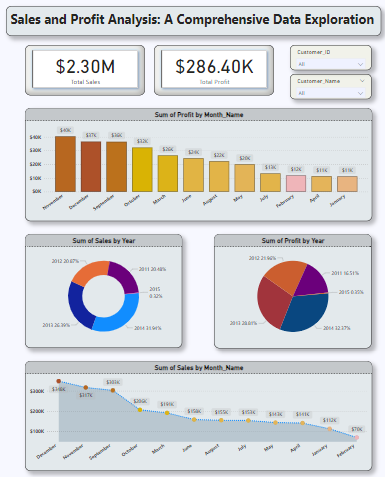

What the dashboard file says about the page in this screenshot:
{"tool":"powerbi","page":{"name":"Page 1","canvas":[1000,1200],"ordinal":0},"visuals":[{"type":"columnChart","fields":{"Category":["Superstore_Cleaned.Month_Name"],"Y":["Sum(Superstore_Cleaned.Profit)"]},"box":[73.3,271.7,868.3,283.3],"z":0},{"type":"areaChart","fields":{"Category":["Superstore_Cleaned.Month_Name"],"Y":["Sum(Superstore_Cleaned.Sales)"]},"box":[72.5,905,867.5,275],"z":1000},{"type":"textbox","box":[25,17.5,937.5,75],"z":2000},{"type":"donutChart","fields":{"Category":["Superstore_Cleaned.Year"],"Y":["Sum(Superstore_Cleaned.Sales)"]},"box":[72.5,587.5,392.5,285],"z":3000},{"type":"pieChart","fields":{"Y":["Sum(Superstore_Cleaned.Profit)"],"Category":["Superstore_Cleaned.Year"]},"box":[544.3,587.1,394.3,285.7],"z":4000},{"type":"cardVisual","fields":{"Data":["Sum(Superstore_Cleaned.Sales)"]},"box":[71.4,115.7,300,125.7],"z":5000},{"type":"cardVisual","fields":{"Data":["Sum(Superstore_Cleaned.Profit)"]},"box":[394.3,115.7,300,125.7],"z":6000},{"type":"slicer","fields":{"Values":["Superstore_Cleaned.Customer_ID"]},"box":[734.3,115.7,204.3,62.9],"z":7000},{"type":"slicer","fields":{"Values":["Superstore_Cleaned.Customer_Name"]},"box":[734.3,188.6,204.3,62.9],"z":8000}]}

Visuals, with their boxes on the page's 1000x1200 design canvas (x1, y1, x2, y2). These are canvas units, not pixel positions in the 385x477 screenshot, which may show the page scaled, cropped or inside an application window:
columnChart - Superstore_Cleaned.Month_Name x Sum(Superstore_Cleaned.Profit): {"x1": 73, "y1": 272, "x2": 942, "y2": 555}
areaChart - Superstore_Cleaned.Month_Name x Sum(Superstore_Cleaned.Sales): {"x1": 72, "y1": 905, "x2": 940, "y2": 1180}
textbox: {"x1": 25, "y1": 18, "x2": 962, "y2": 92}
donutChart - Superstore_Cleaned.Year x Sum(Superstore_Cleaned.Sales): {"x1": 72, "y1": 588, "x2": 465, "y2": 872}
pieChart - Sum(Superstore_Cleaned.Profit) x Superstore_Cleaned.Year: {"x1": 544, "y1": 587, "x2": 939, "y2": 873}
cardVisual - Sum(Superstore_Cleaned.Sales): {"x1": 71, "y1": 116, "x2": 371, "y2": 241}
cardVisual - Sum(Superstore_Cleaned.Profit): {"x1": 394, "y1": 116, "x2": 694, "y2": 241}
slicer - Superstore_Cleaned.Customer_ID: {"x1": 734, "y1": 116, "x2": 939, "y2": 179}
slicer - Superstore_Cleaned.Customer_Name: {"x1": 734, "y1": 189, "x2": 939, "y2": 252}
